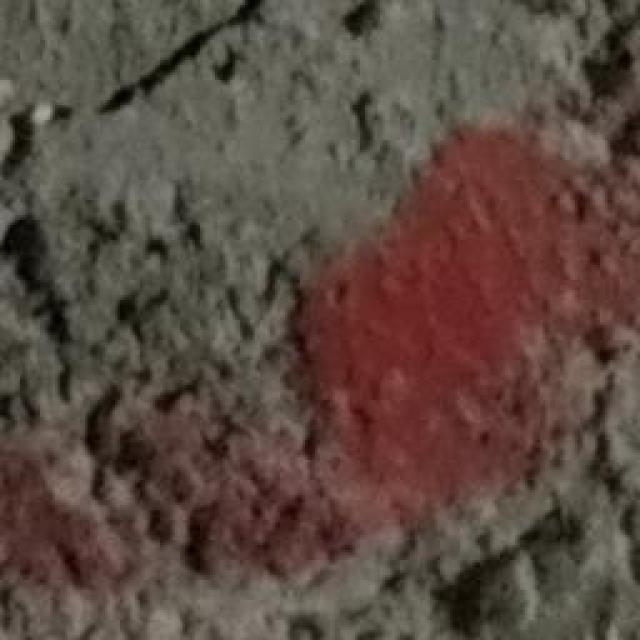Diagonal: (0, 0, 268, 172)
Rippled: (20, 180, 640, 640)
